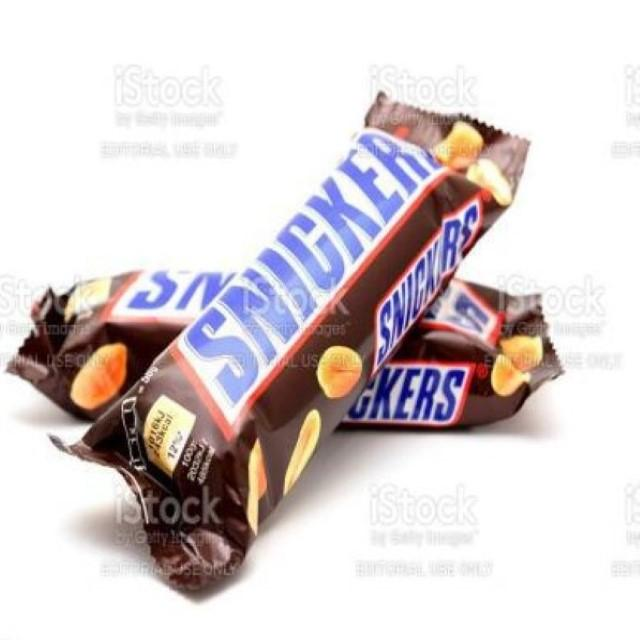snickers_chocolate: (75, 106, 535, 575), (27, 273, 543, 422)
